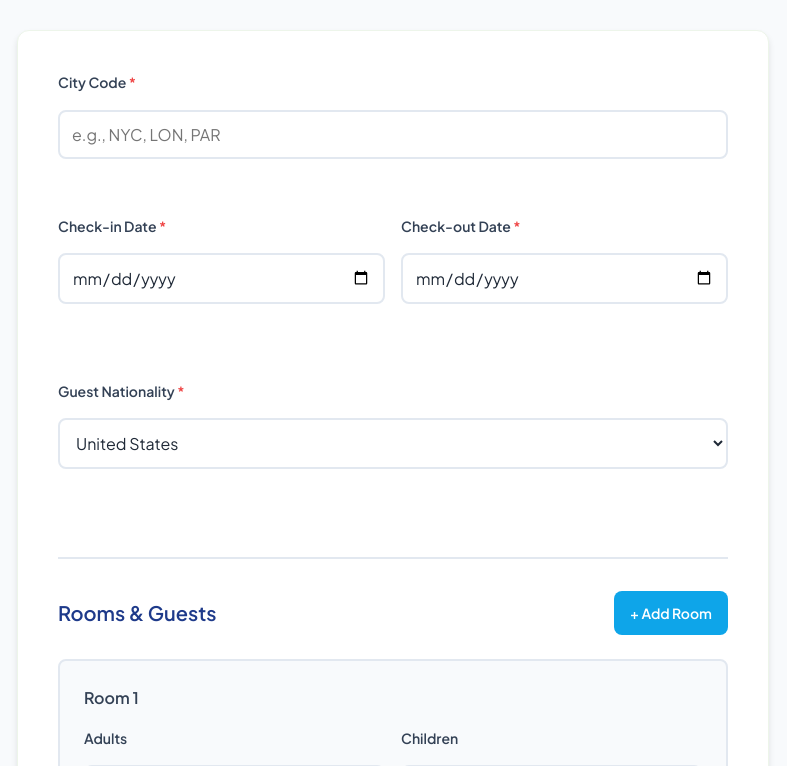
Test: HotelSearchForm › Room Management › should remove a room when Remove button is clicked
// Add a second room
Step 1. Click the button "+ Add Room" → (671, 613), box [614,591,728,635]
(page scrolled)
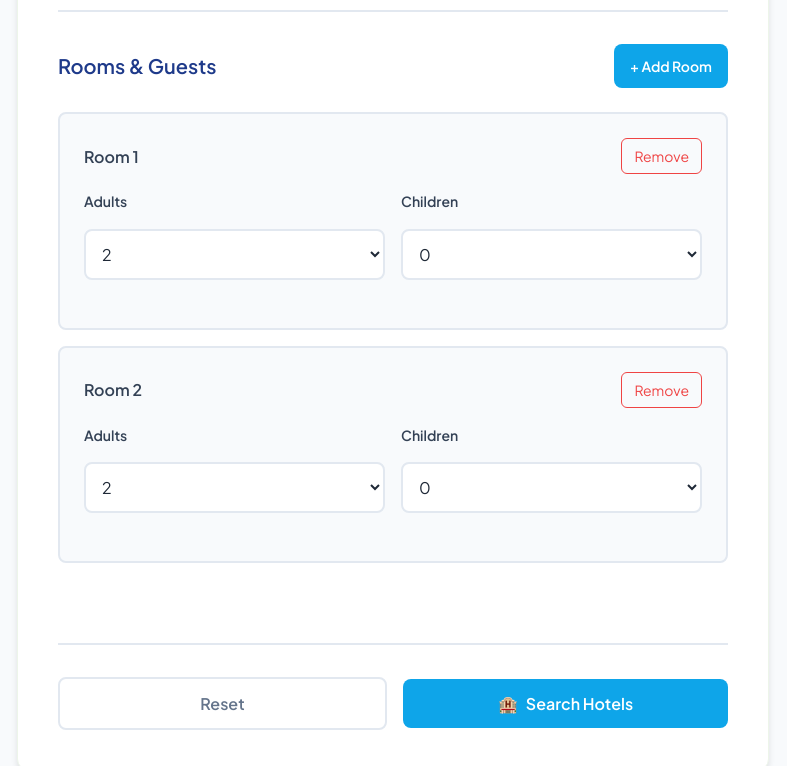
Expected: the heading "Room 2" is shown, [84,377,142,403]
// Remove the second room
Step 2. Click the 2nd button "Remove" → (662, 390), box [621,372,702,408]
(page scrolled)
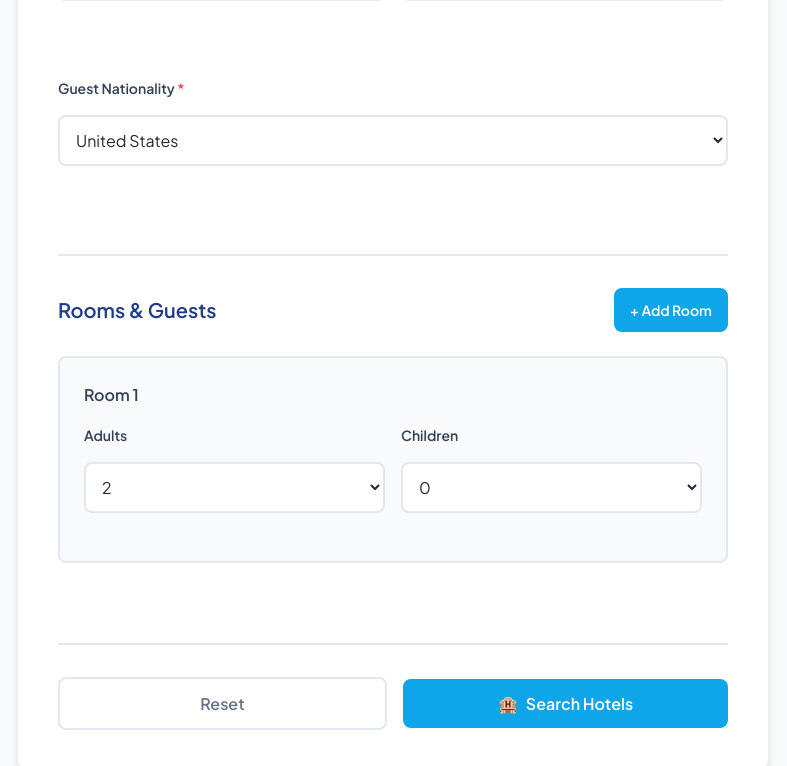
Expected: the heading "Room 2" is gone
